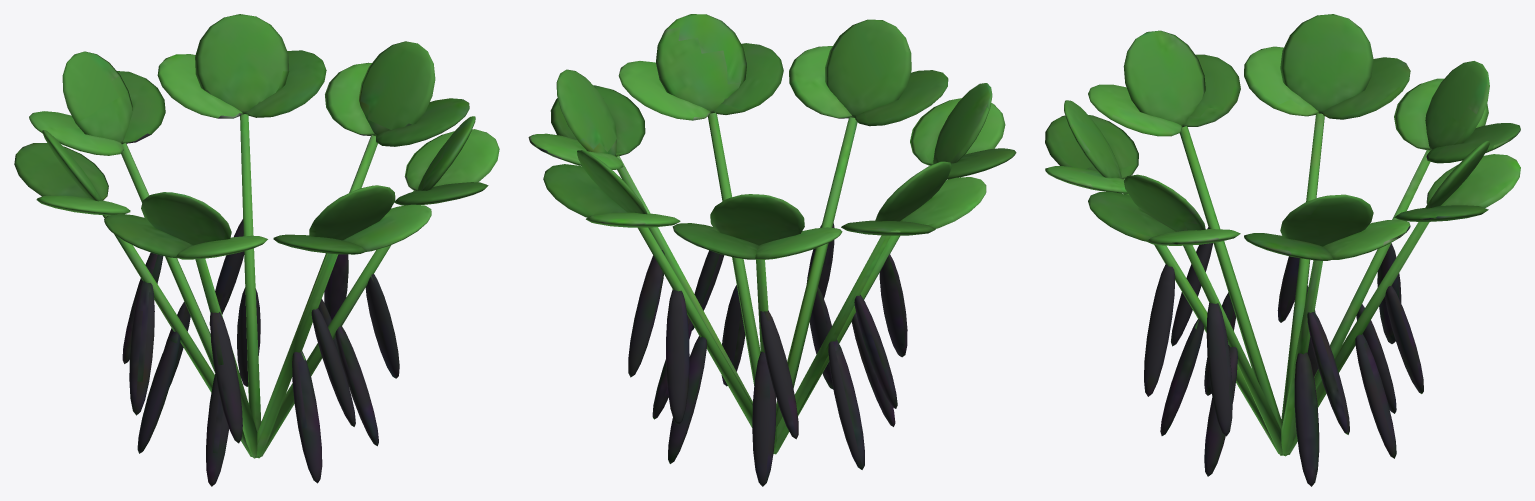
File: crop_black_bean.glb
The picture shows the model from 3 angles, left to right: view 1: azimuth 30°, elevation 25°; view 2: azimuth 150°, elevation 25°; view 3: azimuth 270°, elevation 25°; orthographic projection.
Parts seen in each view (by area): view 1: crop_black_bean, fruit; view 2: crop_black_bean, fruit; view 3: crop_black_bean, fruit.
Boxes of the visible parts, box(x1,y1,x2,y2) form: crop_black_bean: box(14, 14, 499, 458); fruit: box(122, 219, 399, 486); crop_black_bean: box(528, 14, 1016, 454); fruit: box(628, 223, 907, 486); crop_black_bean: box(1045, 14, 1520, 456); fruit: box(1144, 227, 1423, 486).
Size of the model in its own units: 0.2865 by 0.227 by 0.2803.
Materials: 1 (1 with a texture image).
